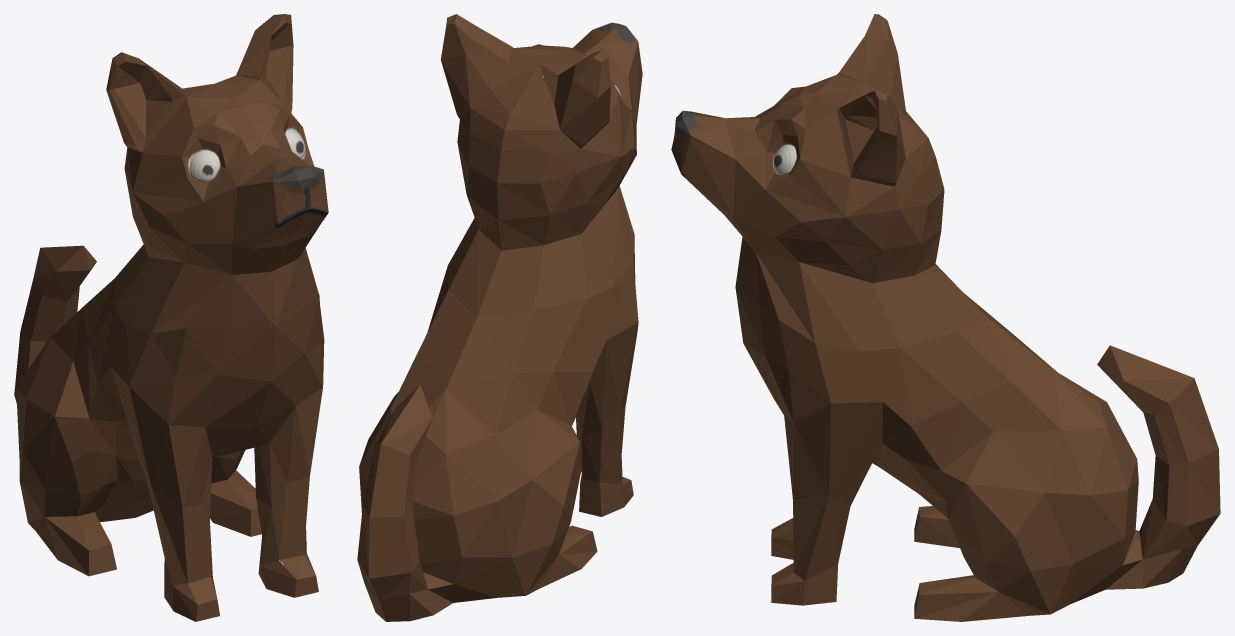
File: dog.fbx
The picture shows the model from 3 angles, left to right: view 1: azimuth 30°, elevation 25°; view 2: azimuth 150°, elevation 25°; view 3: azimuth 270°, elevation 25°; orthographic projection. The views are drawn at different scales.
Parts seen in each view (by area): view 1: Low_Poly_Dog_Sitting; view 2: Low_Poly_Dog_Sitting; view 3: Low_Poly_Dog_Sitting.
Boxes of the visible parts, <box> form: Low_Poly_Dog_Sitting: <box>14,14,328,621</box>; Low_Poly_Dog_Sitting: <box>357,14,642,621</box>; Low_Poly_Dog_Sitting: <box>671,14,1220,621</box>.
Size of the model in its own units: 80.59 by 188 by 180.
Materials: 1 (1 with a texture image).
